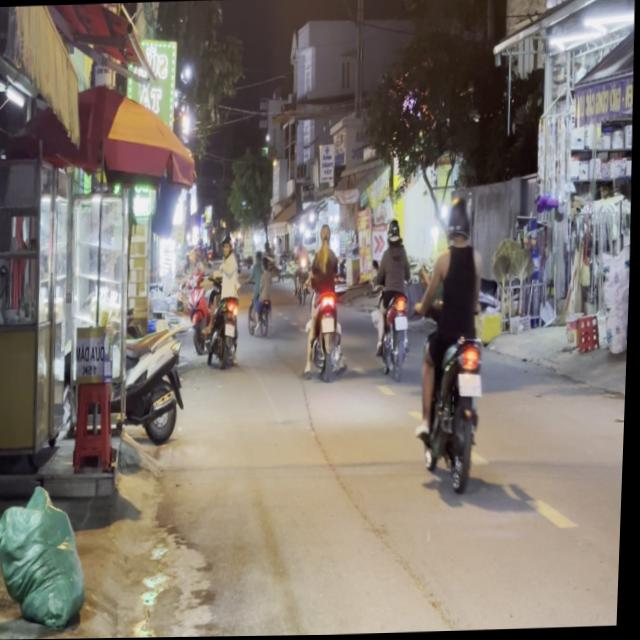helmet: (447, 197, 475, 245)
licenseplate: (412, 194, 496, 493)
nohelmet: (460, 371, 484, 395)
